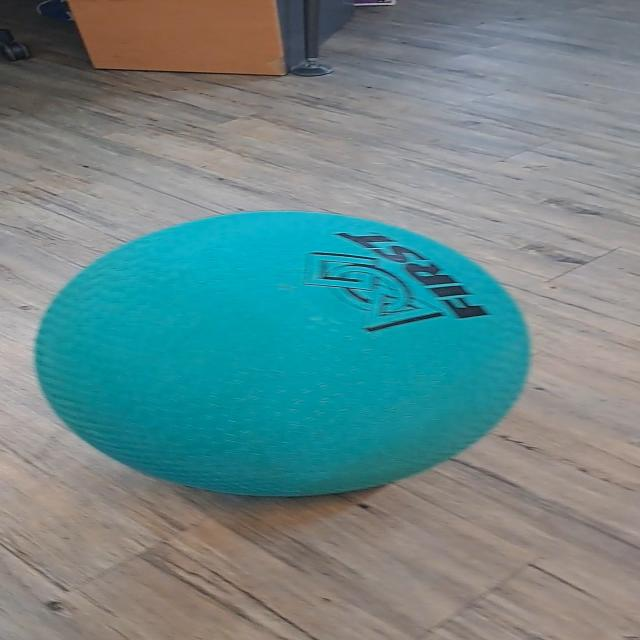ALGAE: (31, 208, 533, 498)
